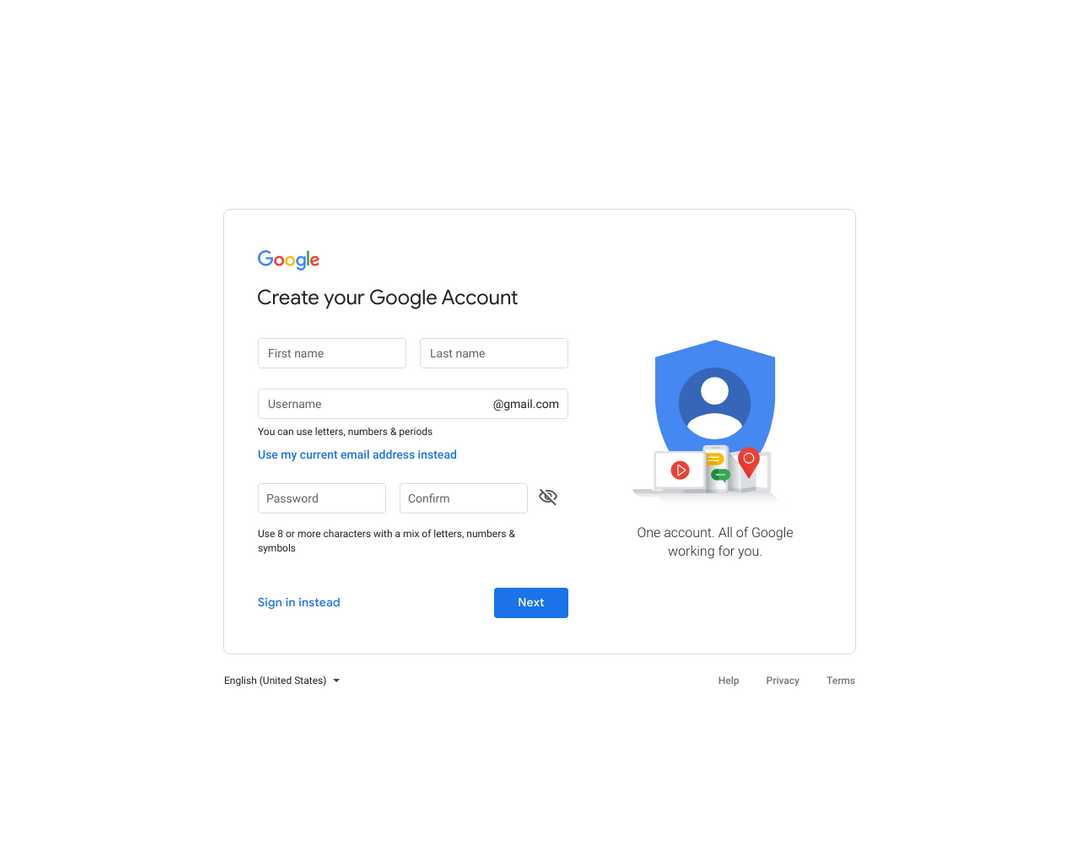Google: (253, 245, 322, 272)
